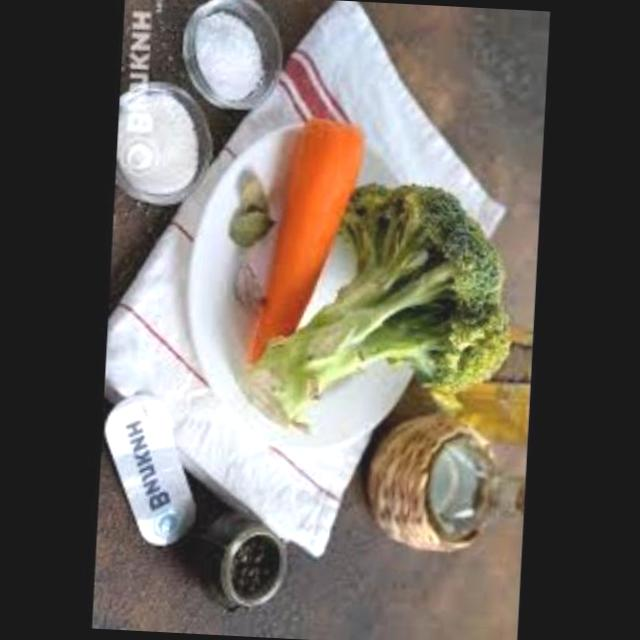Broccoli: (255, 178, 526, 422)
Carrot: (246, 101, 372, 367)
